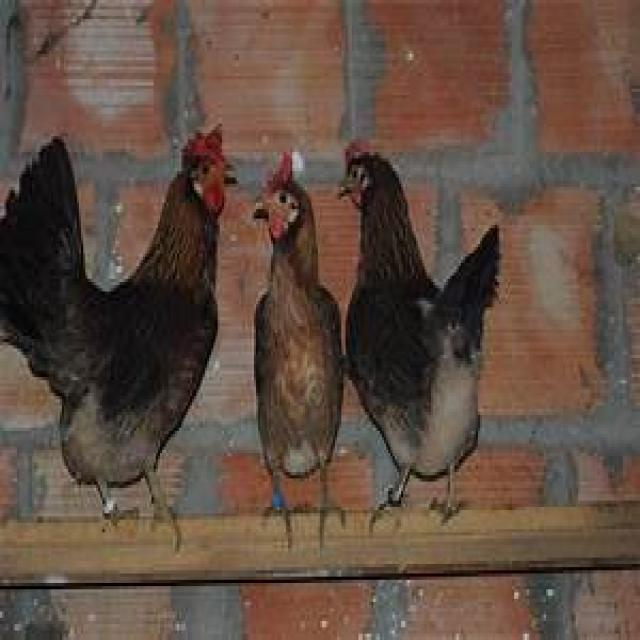chicken: (0, 124, 239, 526), (344, 147, 502, 526), (254, 157, 346, 532)
